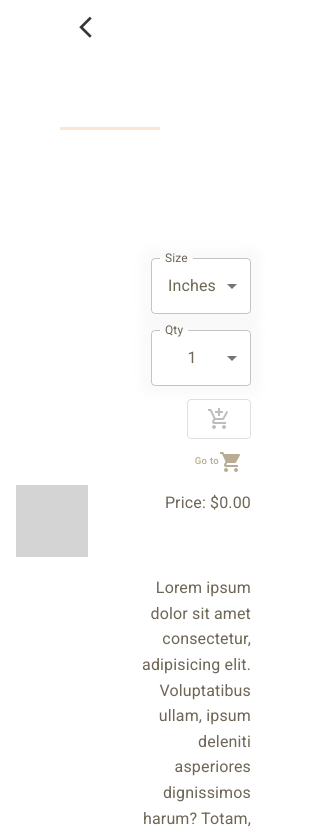
When a Selection - Option is clicked › select value updates text for sizes
Click the button "1". click: x=192, y=358
box: [187,348,197,367]
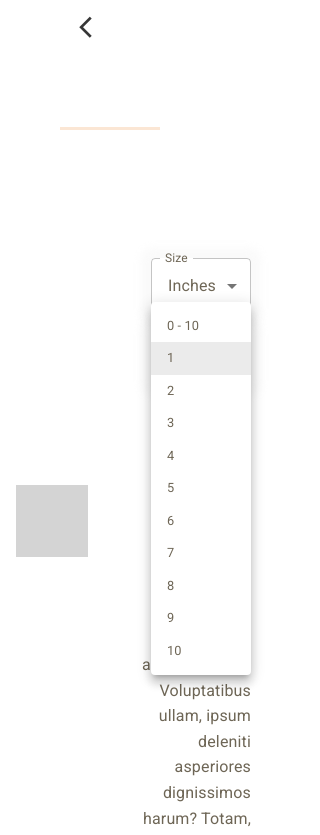
Click the option "4". click: x=171, y=455
box: [167,448,174,463]
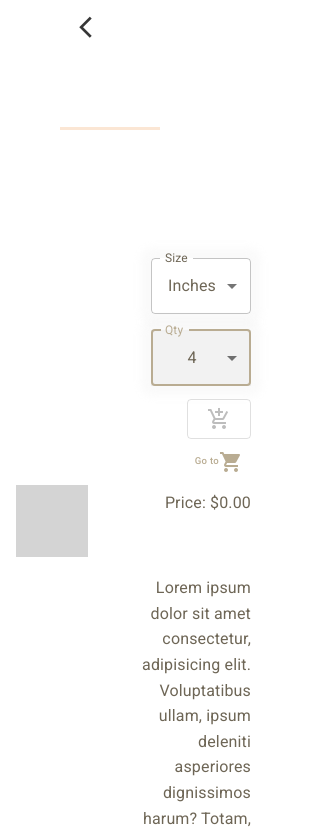
Expected: the element with test id "quantity-select-btn" reads "4", [187,348,197,367]
Expected: the list is gone
